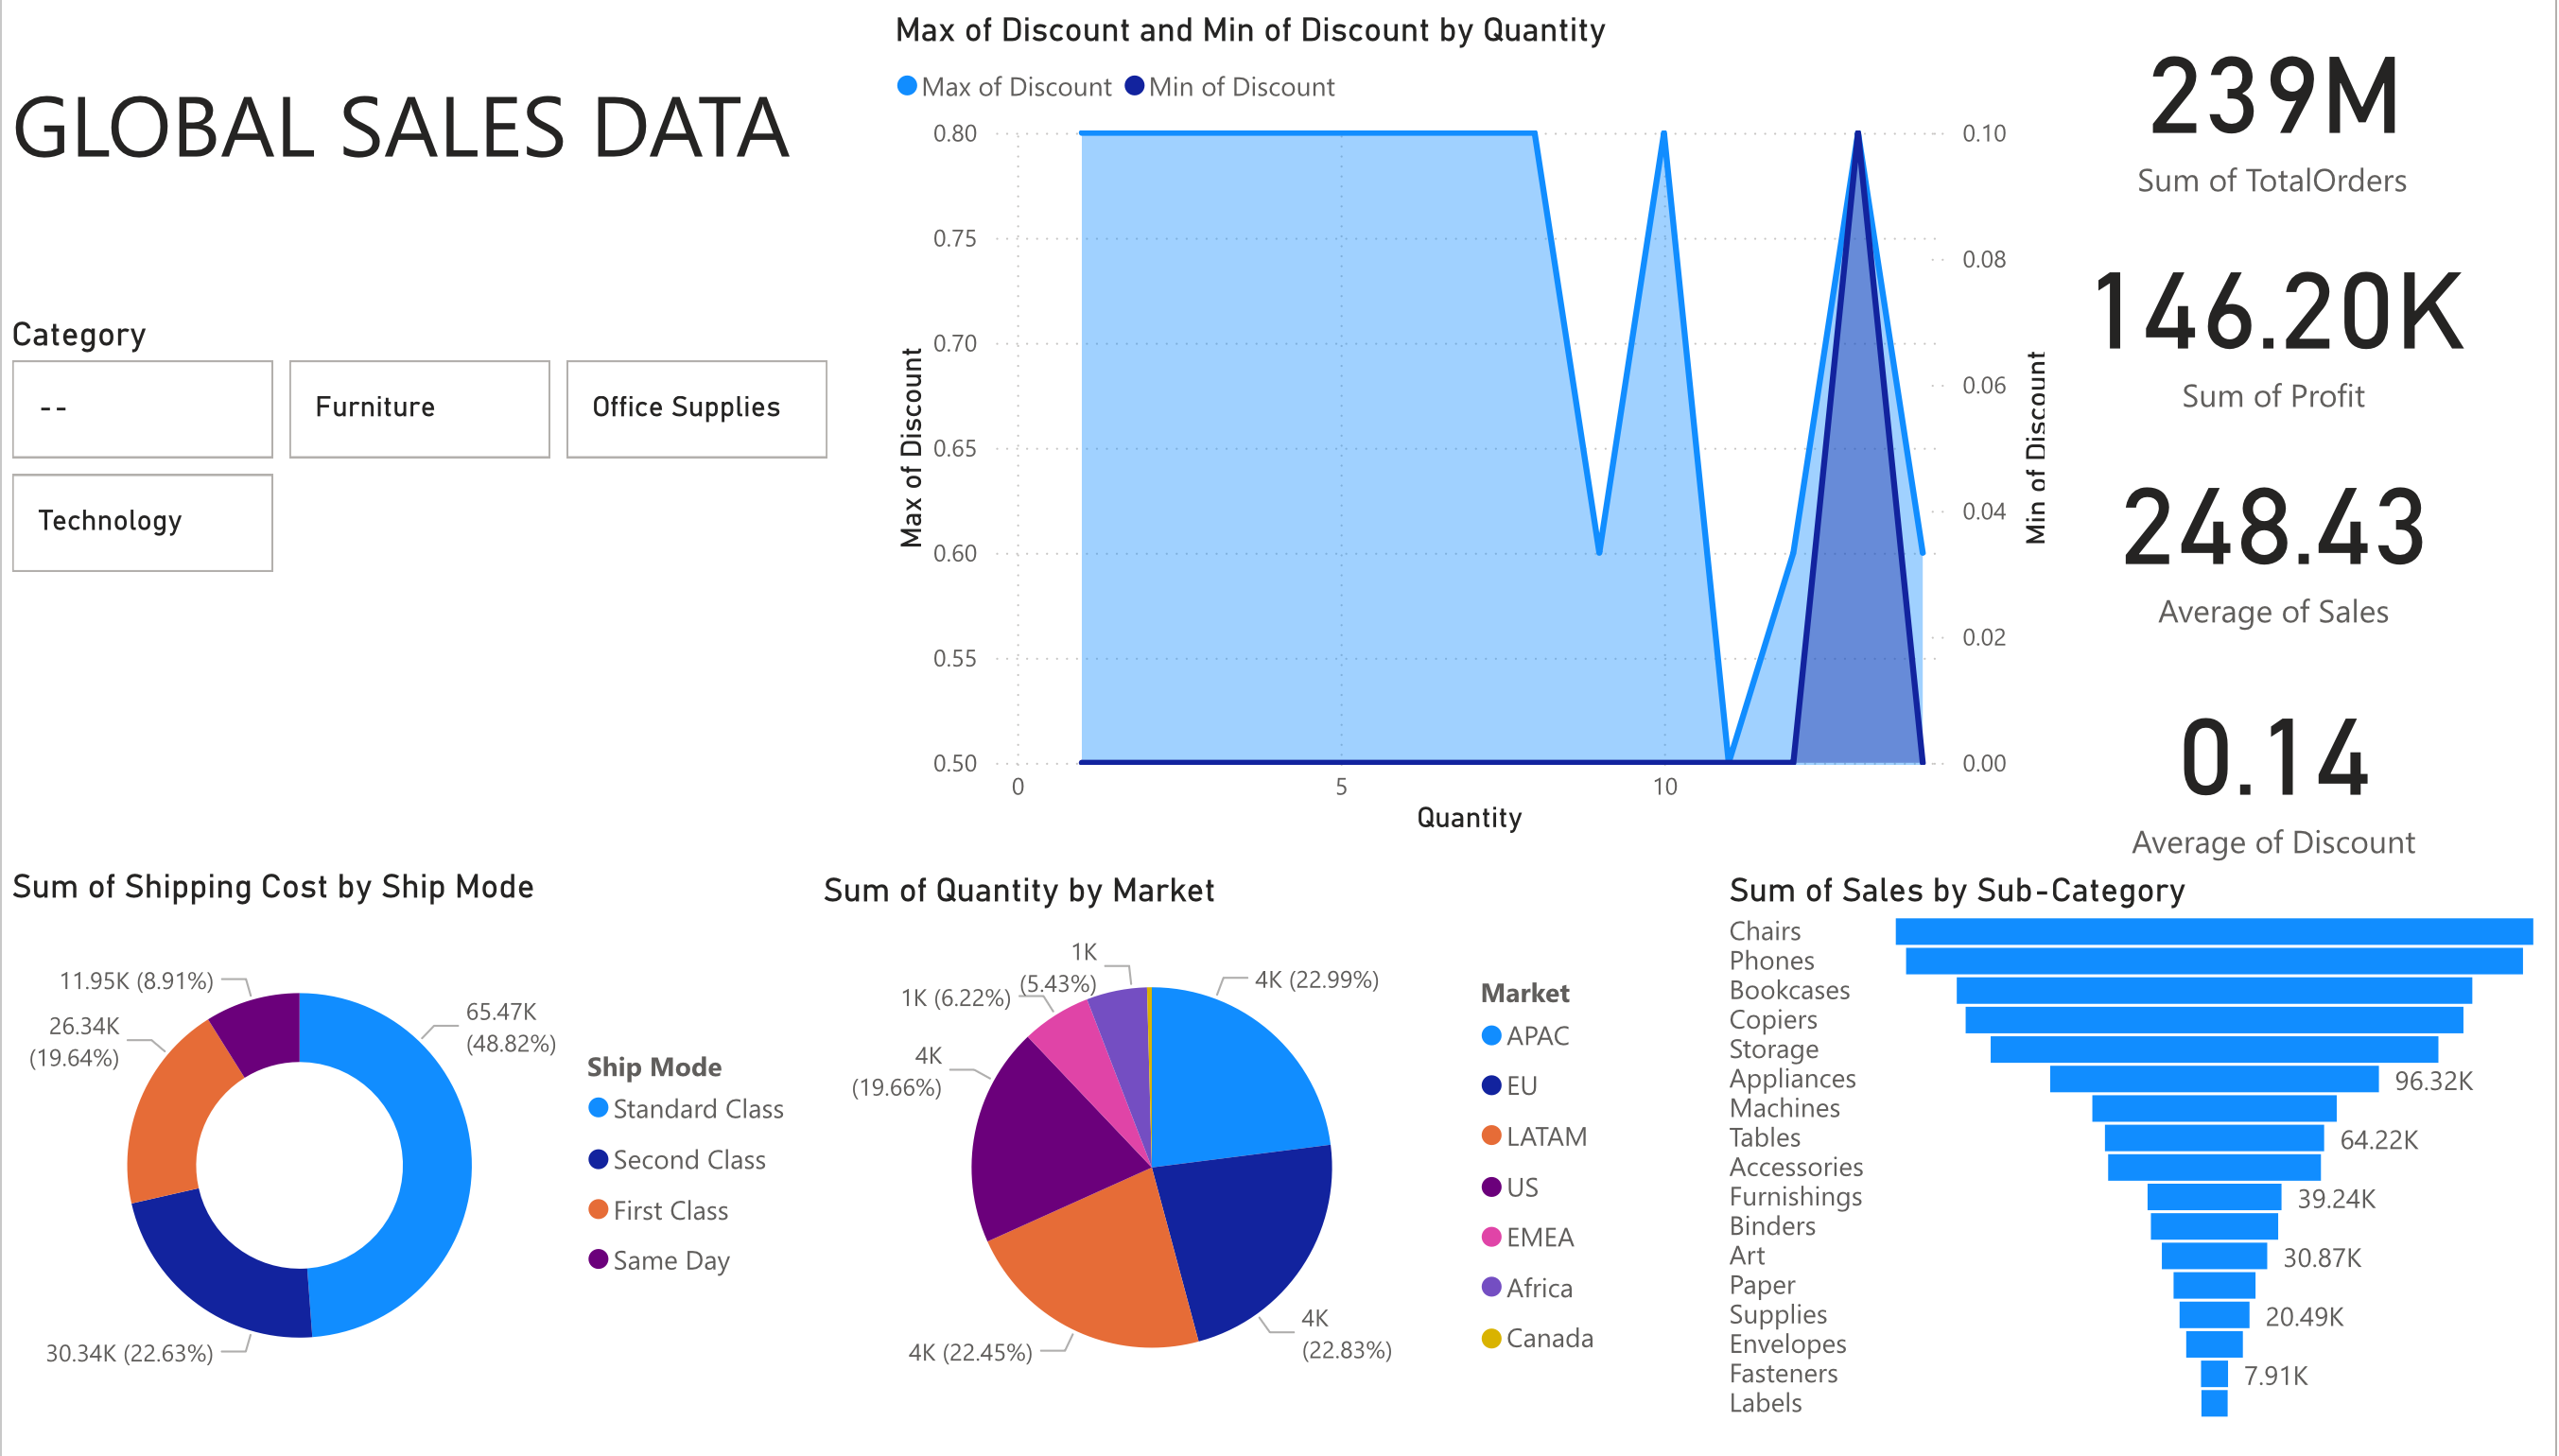

The page's visual inventory and layout, read from the dashboard file:
{"tool":"powerbi","page":{"name":"Page 1","canvas":[1280,720],"ordinal":0},"visuals":[{"type":"card","fields":{"Values":["Sum(Orders.TotalOrders)"]},"box":[999.4,0,279.8,108.3],"z":0},{"type":"card","fields":{"Values":["Avg(Orders.Sales)"]},"box":[999.4,216.5,279.8,108.3],"z":1000},{"type":"card","fields":{"Values":["Sum(Orders.Profit)"]},"box":[999.4,108.3,279.8,108.3],"z":2000},{"type":"donutChart","fields":{"Category":["Orders.Ship Mode"],"Y":["Sum(Orders.Shipping Cost)"]},"box":[0,439.7,406.4,279.8],"z":3000},{"type":"pieChart","fields":{"Category":["Orders.Market"],"Y":["Sum(Orders.Quantity)"]},"box":[406.4,441.4,406.4,278.2],"z":4000},{"type":"funnel","fields":{"Y":["Sum(Orders.Sales)"],"Category":["Orders.Sub-Category"]},"box":[861.2,441.4,418.1,278.2],"z":5000},{"type":"advancedSlicerVisual","fields":{"Values":["Orders.Category"]},"box":[0,163.2,419.8,133.3],"z":6000},{"type":"textbox","box":[0,30,443.1,78.3],"z":7000},{"type":"card","fields":{"Values":["Avg(Orders.Discount)"]},"box":[999.4,331.5,279.8,108.3],"z":8000},{"type":"areaChart","fields":{"Category":["Orders.Quantity"],"Y":["Max(Orders.Discount)"],"Y2":["Min(Orders.Discount)"]},"box":[443.1,10,586.3,414.8],"z":9000}]}

Visuals, with their boxes in screenshot pixels (x1, y1, x2, y2), scaled from the page's 1280x720 canvas onto the 2559x1456 screenshot:
card - Sum(Orders.TotalOrders): crop(1998, 0, 2557, 219)
card - Avg(Orders.Sales): crop(1998, 438, 2557, 657)
card - Sum(Orders.Profit): crop(1998, 219, 2557, 438)
donutChart - Orders.Ship Mode x Sum(Orders.Shipping Cost): crop(0, 889, 812, 1455)
pieChart - Orders.Market x Sum(Orders.Quantity): crop(812, 893, 1625, 1455)
funnel - Sum(Orders.Sales) x Orders.Sub-Category: crop(1722, 893, 2558, 1455)
advancedSlicerVisual - Orders.Category: crop(0, 330, 839, 599)
textbox: crop(0, 61, 886, 219)
card - Avg(Orders.Discount): crop(1998, 670, 2557, 890)
areaChart - Orders.Quantity x Max(Orders.Discount): crop(886, 20, 2058, 859)
